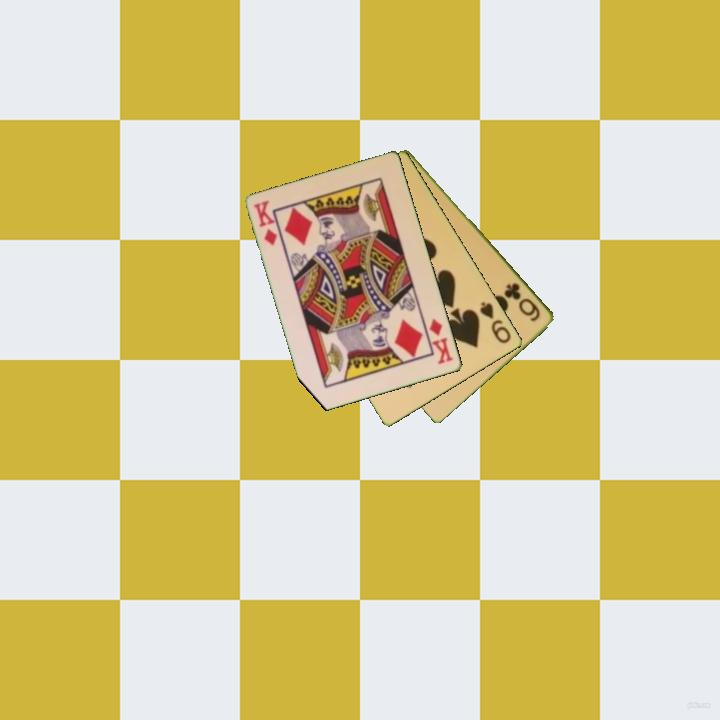6c: (501, 279, 544, 324)
9s: (477, 298, 514, 347)
Kd: (250, 197, 281, 248), (426, 315, 456, 367)
